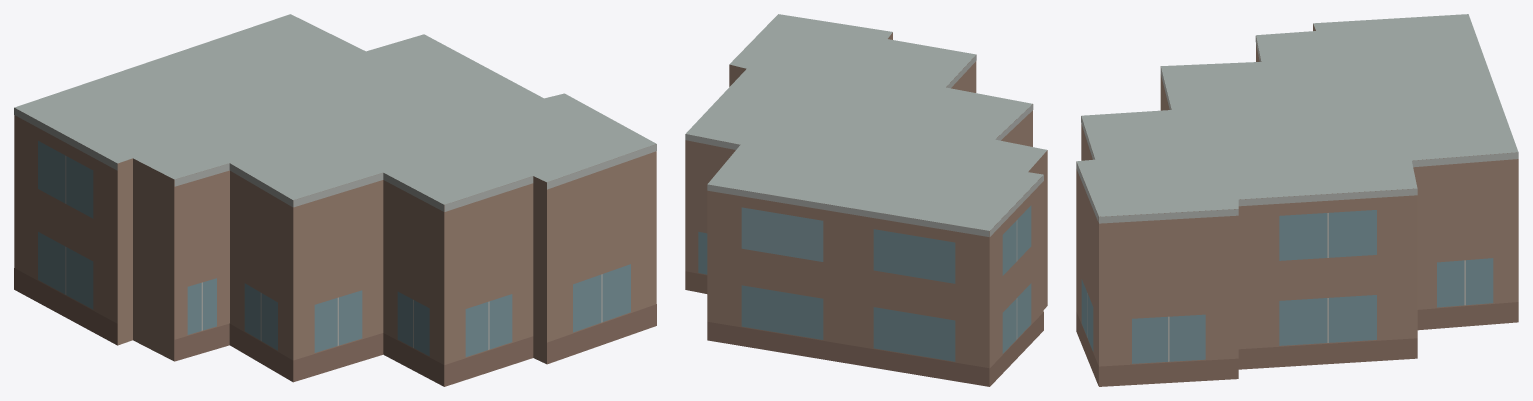
The model's file is survey-upis-32879985.glb.
3 renders of one model, left to right at view 1: azimuth 30°, elevation 25°; view 2: azimuth 150°, elevation 25°; view 3: azimuth 270°, elevation 25°, orthographic. The views are drawn at different scales.
Parts seen in each view (by area): view 1: survey-upis-32879985.tmp; view 2: survey-upis-32879985.tmp; view 3: survey-upis-32879985.tmp.
Part boxes in pixels (bbox=[...]): survey-upis-32879985.tmp: bbox=[14, 14, 656, 386]; survey-upis-32879985.tmp: bbox=[685, 14, 1047, 386]; survey-upis-32879985.tmp: bbox=[1076, 14, 1518, 386].
Bounding box in the file's own units: 15.61 × 6.1 × 14.39.
